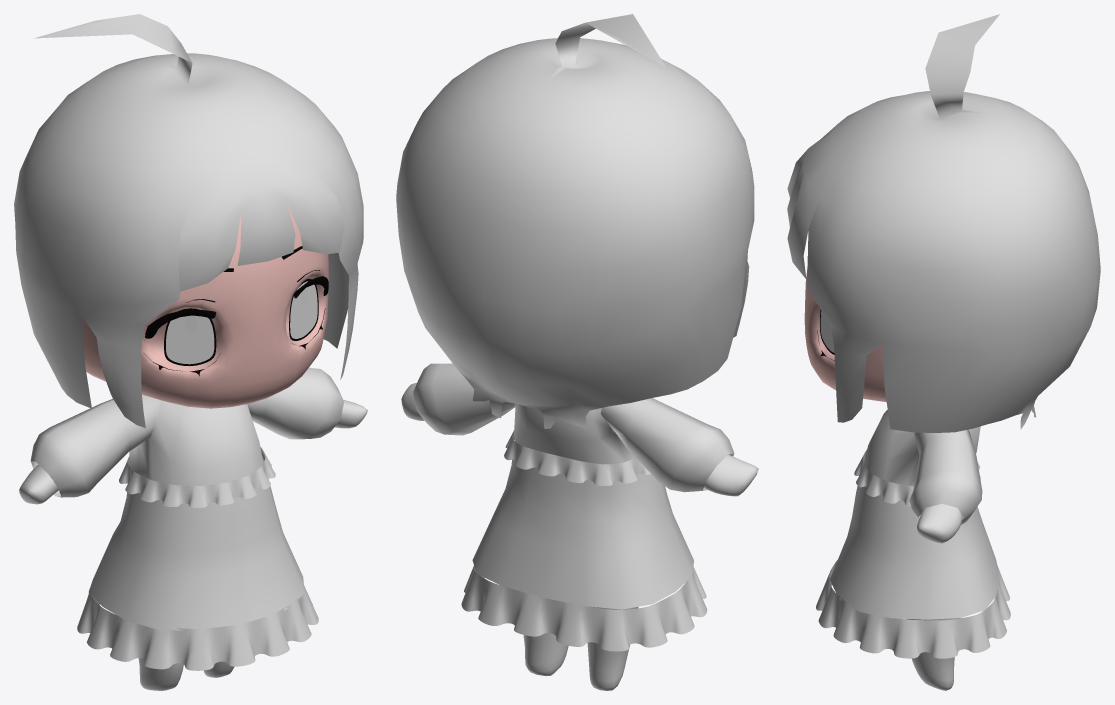
Rendered from MainCharacter_proto.fbx.
3 renders of one model, left to right at view 1: azimuth 30°, elevation 25°; view 2: azimuth 150°, elevation 25°; view 3: azimuth 270°, elevation 25°, orthographic. The views are drawn at different scales.
Visible parts, largest first — view 1: Sphere, Cube.013, Cube.012, Retopo_Cube, Circle.001, Plane, Circle, Cube.011, Cube.010, Plane.001; view 2: Sphere, Cube.013, Cube.012, Circle.001, Cube.010, Circle, Cube.011; view 3: Sphere, Cube.013, Cube.012, Circle.001, Retopo_Cube, Cube.011, Cube.010, Circle.
Boxes of the visible parts, x1,y1,x2,y2 form: Sphere: [14, 14, 363, 427]; Cube.013: [88, 478, 304, 630]; Cube.012: [30, 367, 343, 497]; Retopo_Cube: [82, 201, 328, 408]; Circle.001: [77, 585, 318, 670]; Plane: [164, 279, 318, 365]; Circle: [119, 447, 275, 507]; Cube.011: [19, 400, 367, 504]; Cube.010: [138, 658, 234, 690]; Plane.001: [145, 276, 328, 338]; Sphere: [396, 14, 754, 428]; Cube.013: [472, 459, 693, 609]; Cube.012: [413, 363, 734, 492]; Circle.001: [461, 565, 707, 651]; Cube.010: [523, 606, 638, 690]; Circle: [504, 430, 650, 485]; Cube.011: [401, 383, 758, 496]; Sphere: [787, 14, 1100, 432]; Cube.013: [830, 485, 999, 619]; Cube.012: [863, 410, 982, 524]; Circle.001: [816, 560, 1010, 658]; Retopo_Cube: [804, 267, 886, 401]; Cube.011: [917, 503, 962, 543]; Cube.010: [906, 618, 960, 690]; Circle: [854, 450, 980, 506].
Size of the model in its own units: 277 by 517 by 239.
